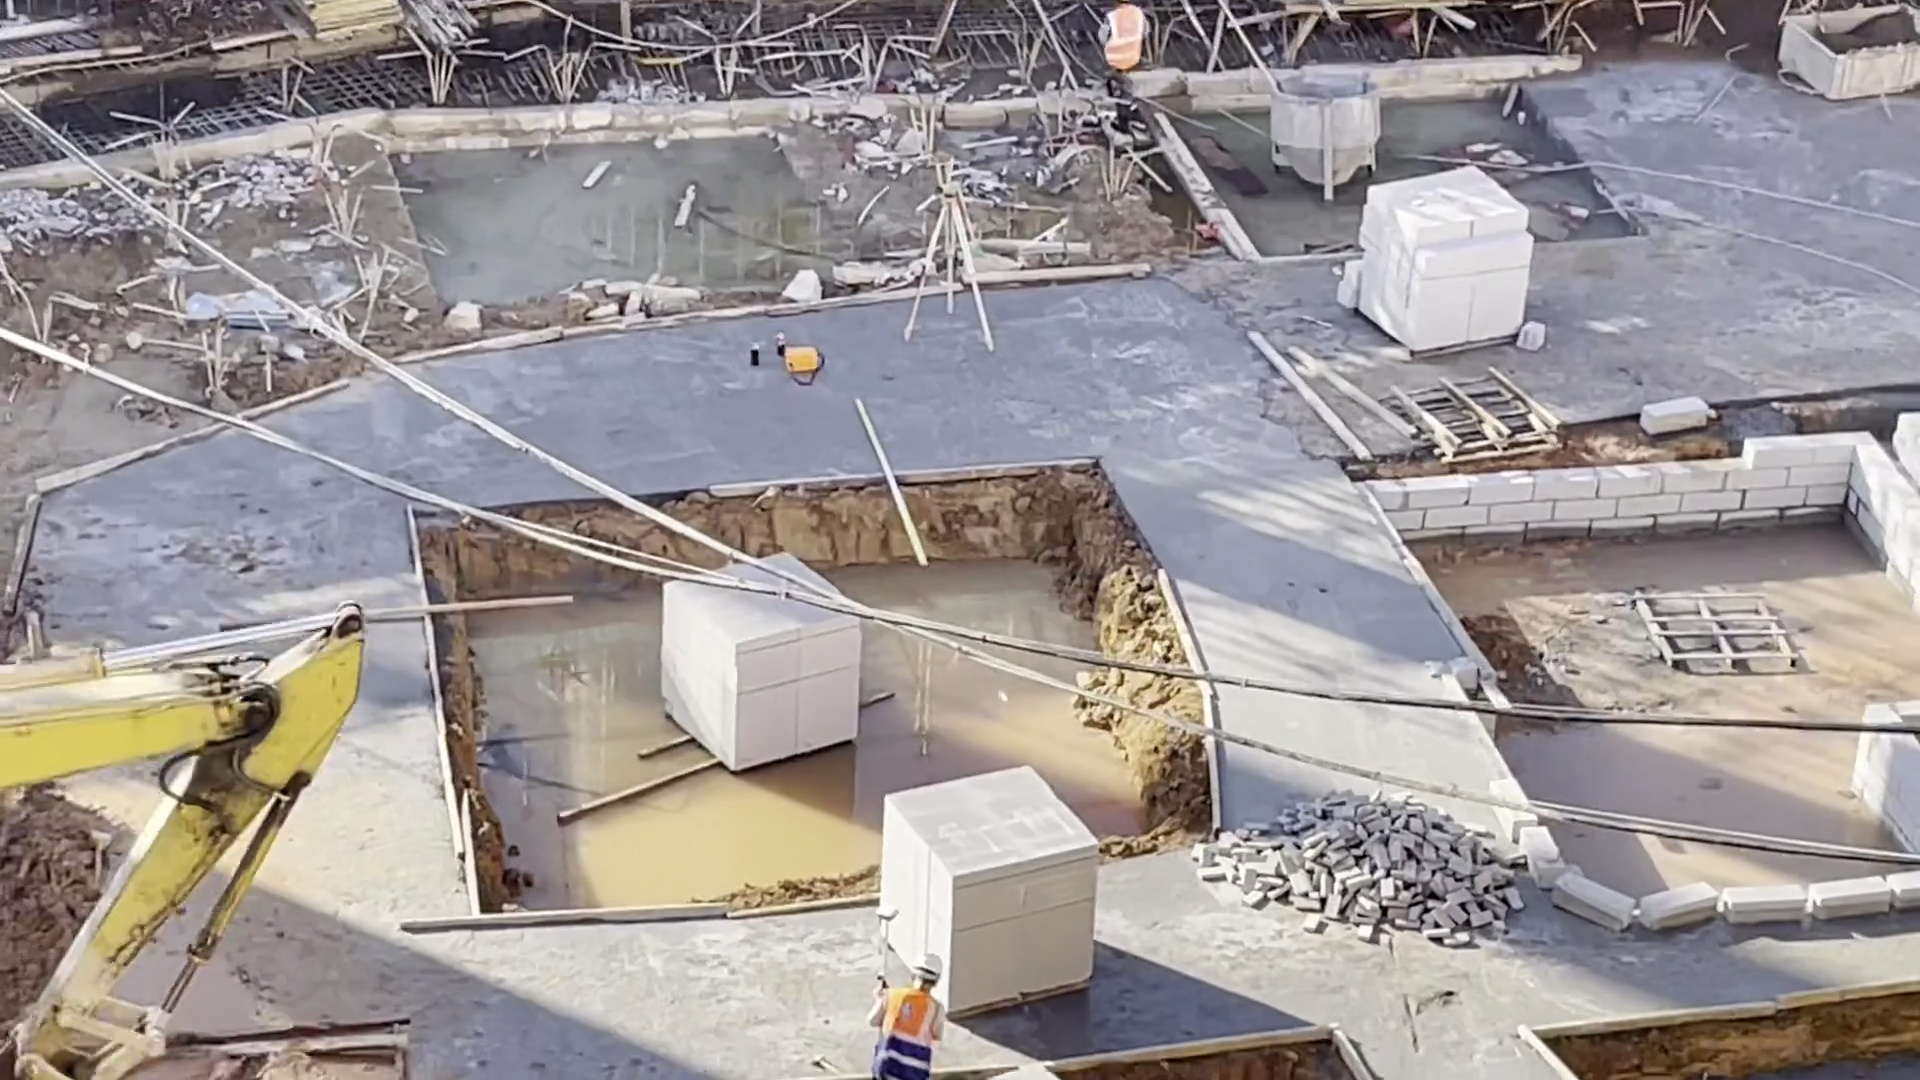brick: (1194, 771, 1533, 959), (868, 768, 1105, 1005), (656, 545, 865, 783), (1345, 161, 1529, 359)
helmet: (914, 951, 945, 984)
hopper: (1772, 1, 1920, 110), (1264, 59, 1373, 184)
person: (866, 948, 947, 1080), (1099, 1, 1149, 70)
vest: (877, 989, 940, 1080), (1109, 2, 1141, 65)
